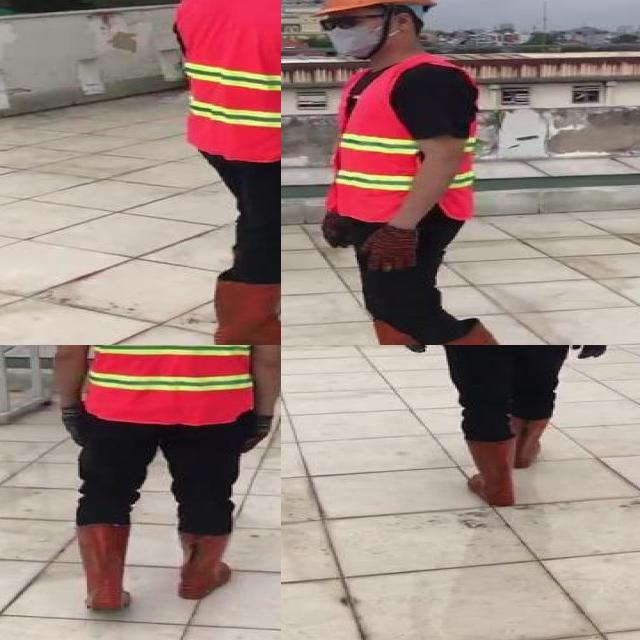boots: (76, 522, 135, 613), (214, 272, 281, 345), (174, 527, 231, 600), (462, 435, 516, 505), (332, 321, 444, 345), (507, 413, 551, 470), (421, 324, 527, 345)
face_mask: (318, 11, 382, 56)
glasses: (312, 12, 366, 34)
hand_glove: (361, 223, 421, 275), (55, 402, 92, 446), (234, 413, 272, 454), (322, 209, 354, 249), (572, 345, 608, 360), (398, 345, 432, 354)
head_helmet: (311, 0, 443, 15)
person: (309, 0, 542, 345), (33, 345, 281, 622), (165, 0, 281, 345), (386, 345, 626, 506)
vest: (329, 58, 483, 222), (175, 0, 281, 161), (81, 345, 264, 424)
